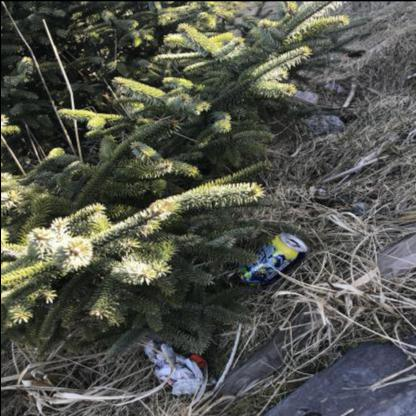Bottle: (190, 354, 206, 366)
Can: (236, 231, 306, 287)
Plastic container: (294, 88, 318, 102)
Pop tab: (286, 238, 297, 244)
Unlabeled litter: (142, 332, 203, 383), (173, 377, 201, 394), (324, 81, 346, 89)
